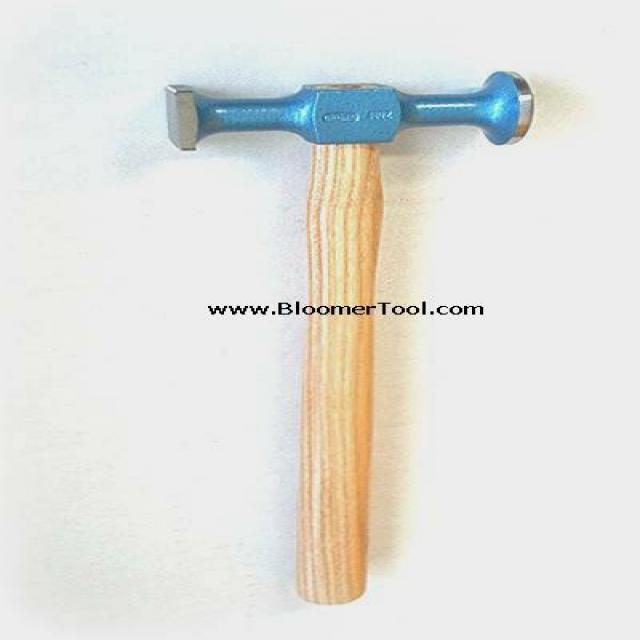hammer: (143, 65, 554, 610)
